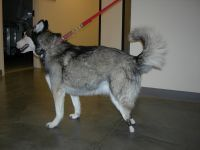dog: (16, 20, 162, 132)
